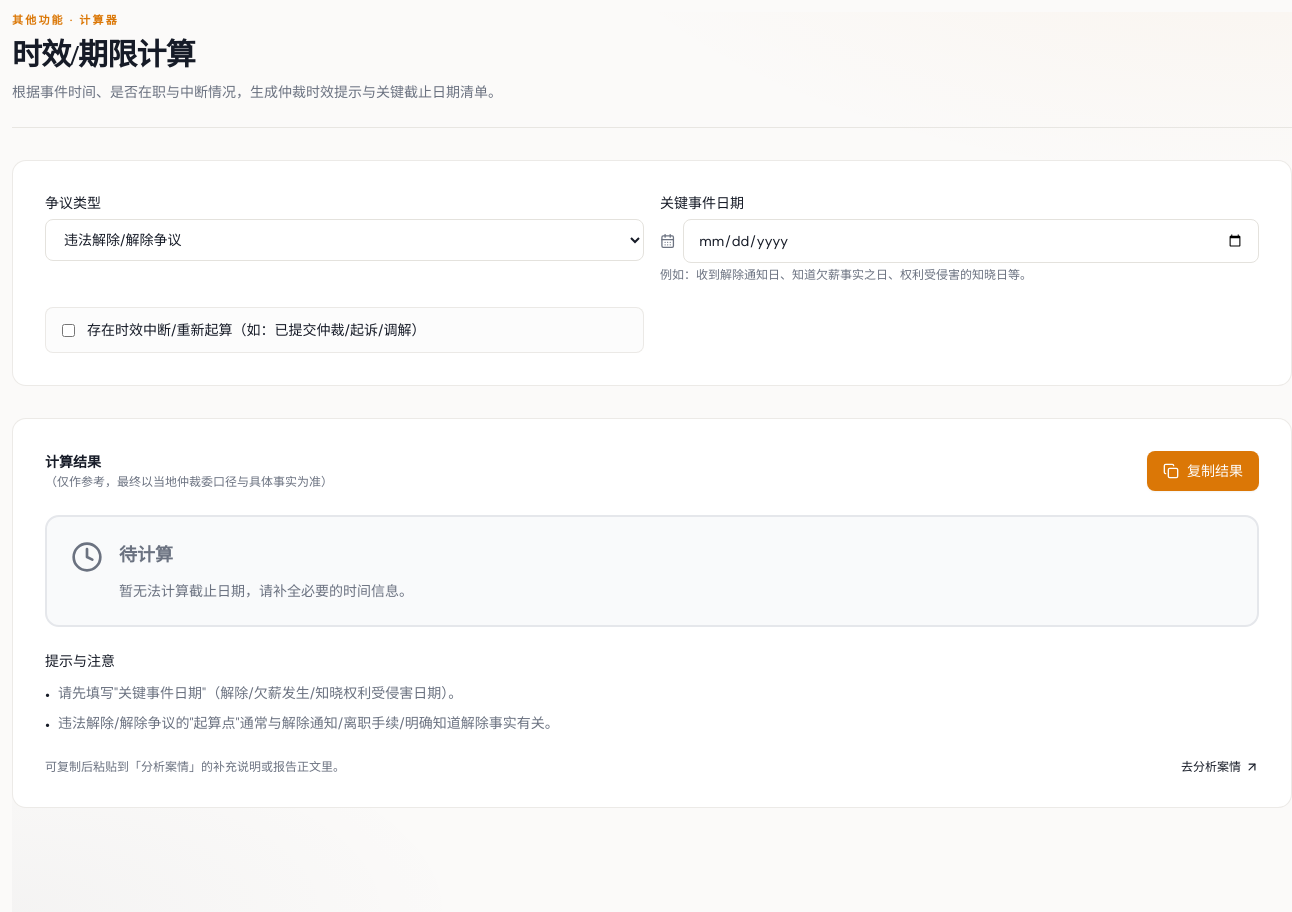
Test case: LimitationCalculator › shows expired status when deadline has passed
The width and height of the screenshot is (1292, 912).
In the date field: [971, 241] box [683, 219, 1259, 263], type "2020-01-01"
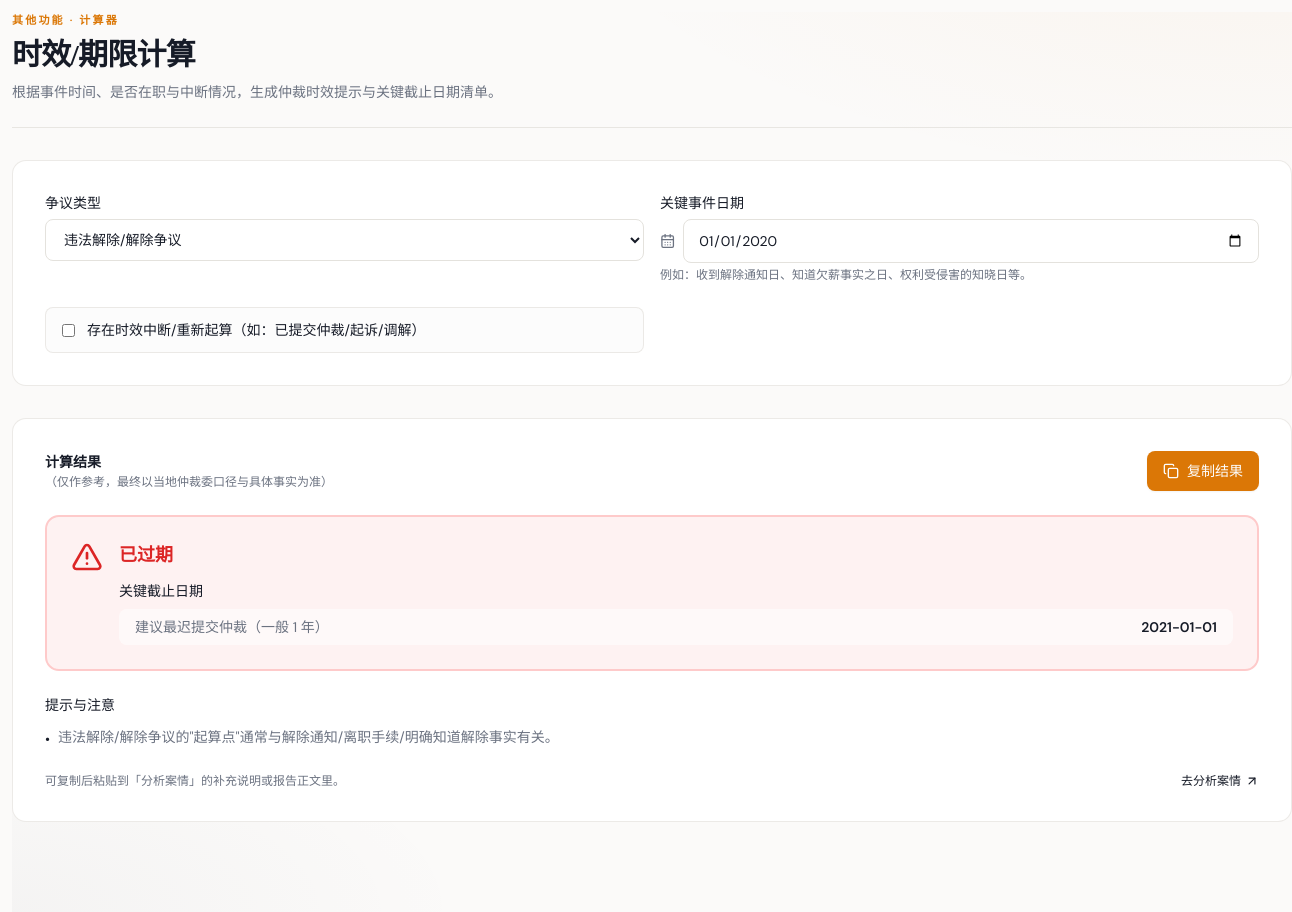
Expected: the text "已过期" is shown, [119, 541, 173, 569]
